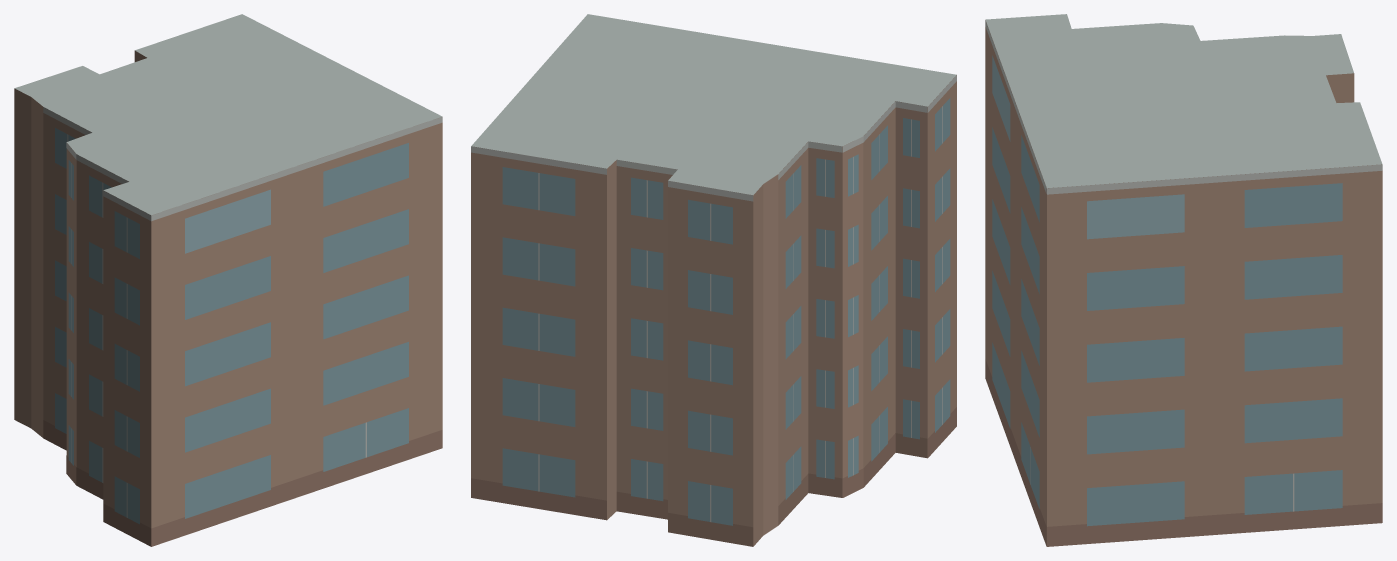
The model's file is survey-upis-33007039.glb.
3 renders of one model, left to right at view 1: azimuth 30°, elevation 25°; view 2: azimuth 150°, elevation 25°; view 3: azimuth 270°, elevation 25°, orthographic. The views are drawn at different scales.
Visible parts, largest first — view 1: survey-upis-33007039.tmp; view 2: survey-upis-33007039.tmp; view 3: survey-upis-33007039.tmp.
Boxes of the visible parts, x1,y1,x2,y2 form: survey-upis-33007039.tmp: (14,14,442,546); survey-upis-33007039.tmp: (471,14,956,546); survey-upis-33007039.tmp: (985,14,1382,546).
Bounding box in the file's own units: 14.18 × 13.6 × 13.66.
